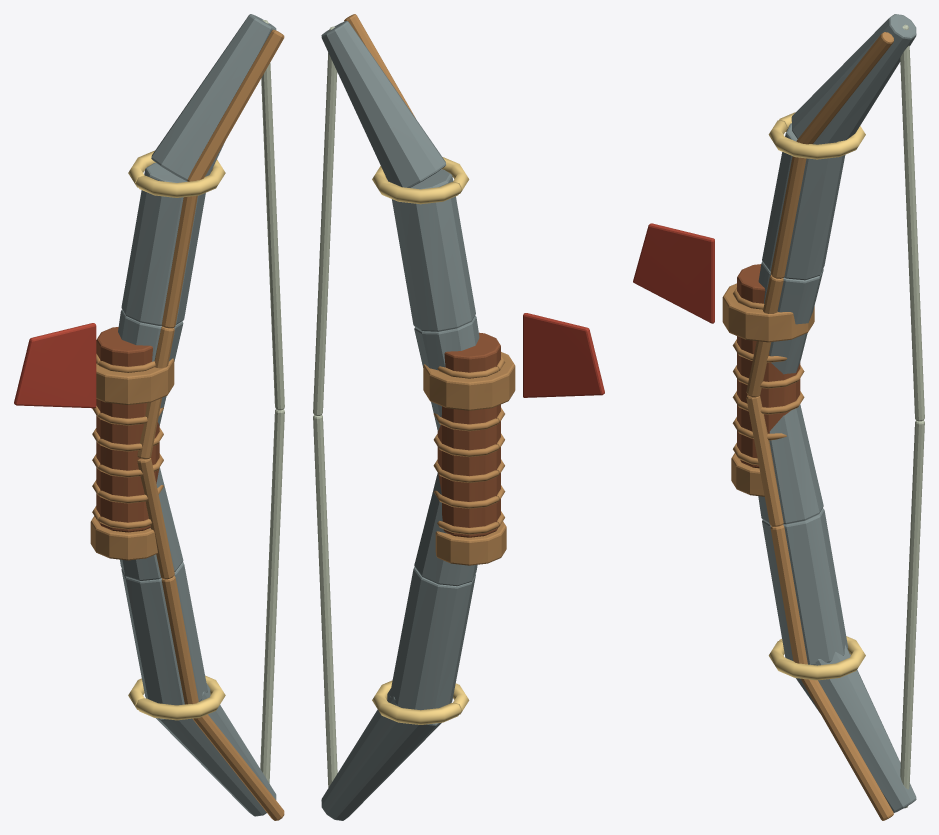
File: item_007.glb
3 renders of one model, left to right at view 1: azimuth 30°, elevation 25°; view 2: azimuth 150°, elevation 25°; view 3: azimuth 330°, elevation 25°, orthographic.
Parts seen in each view (by area): view 1: Item_007_laundry_flatbow; view 2: Item_007_laundry_flatbow; view 3: Item_007_laundry_flatbow.
Boxes of the visible parts, left/top/right/bottom form: Item_007_laundry_flatbow: left=14, top=14, right=284, bottom=820; Item_007_laundry_flatbow: left=313, top=14, right=604, bottom=820; Item_007_laundry_flatbow: left=633, top=14, right=924, bottom=820.
Bounding box in the file's own units: 0.5169 × 1.41 × 0.156.
